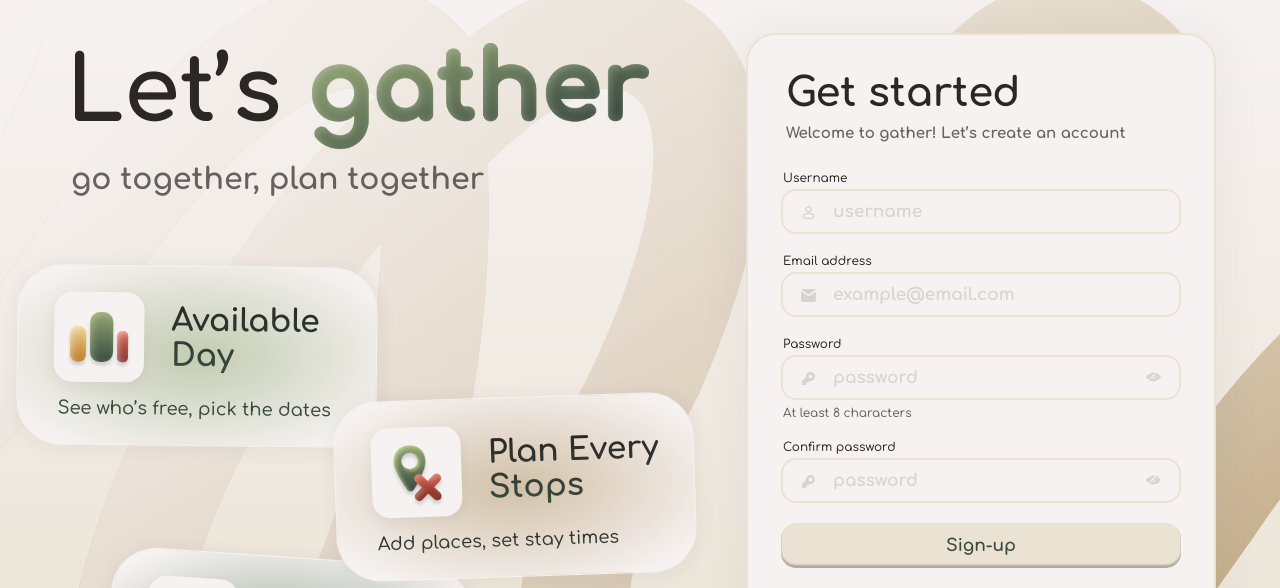
Test: Sign-up page › says the email exists when Supabase returns a user with no identities
Type "mild_01" into the field labelled "Username". click: (981, 211)
box: x1=781 y1=188 x2=1181 y2=234
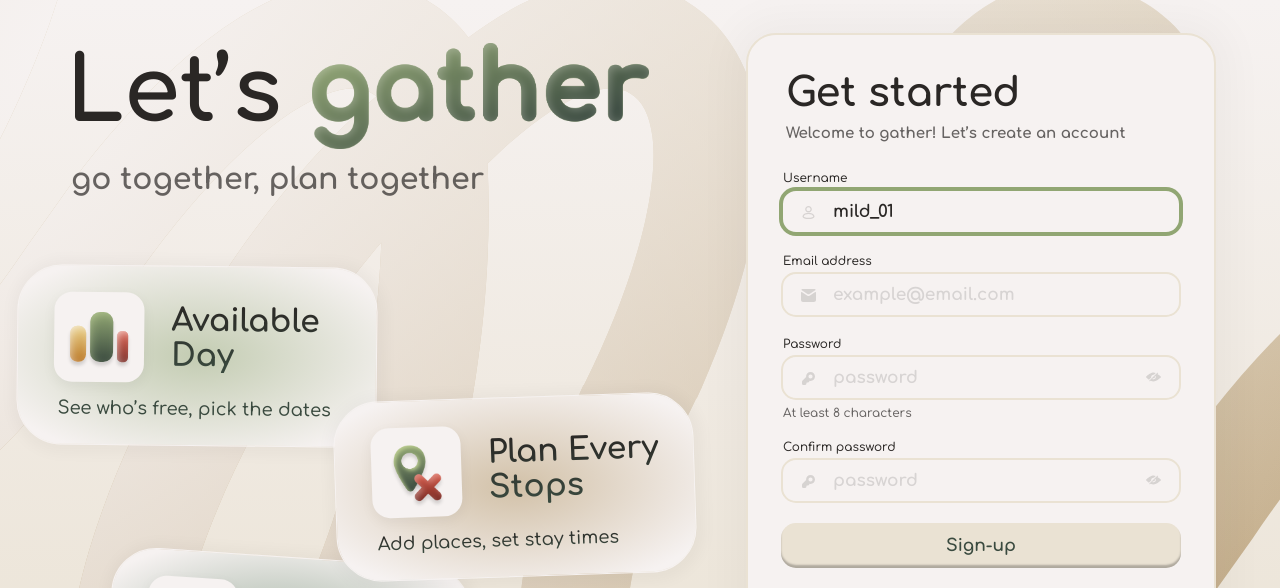
Type "mild@example.com" into the field labelled "Email address". click: (981, 294)
box: x1=781 y1=272 x2=1181 y2=316
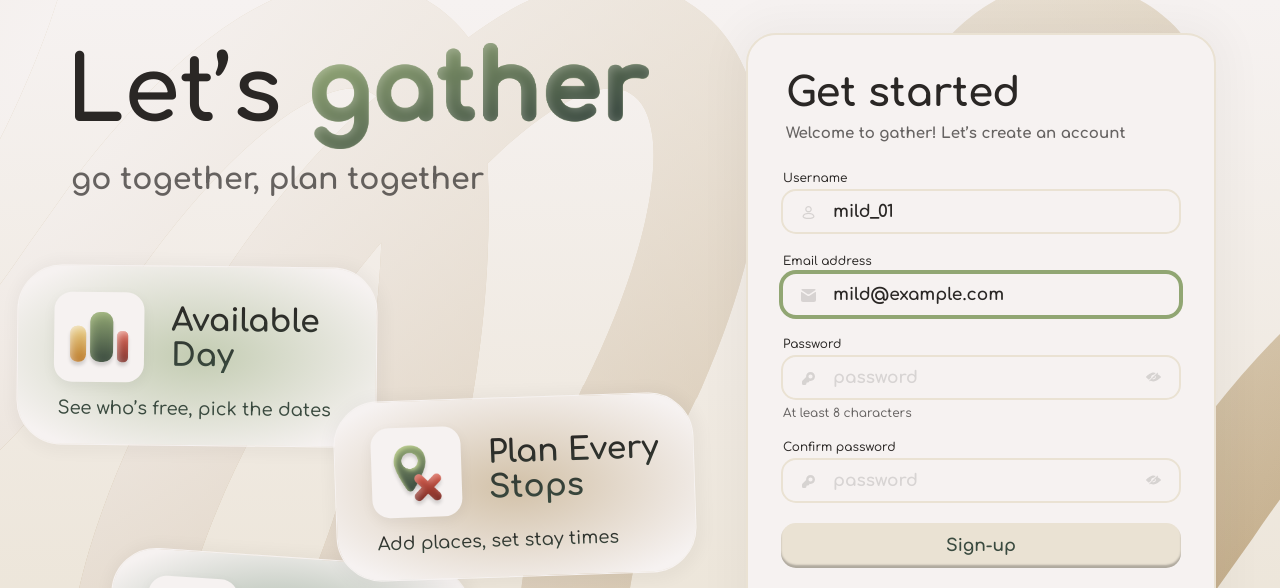
Type "password123" into the password field labelled "Password". click: (981, 377)
box: x1=781 y1=354 x2=1181 y2=400
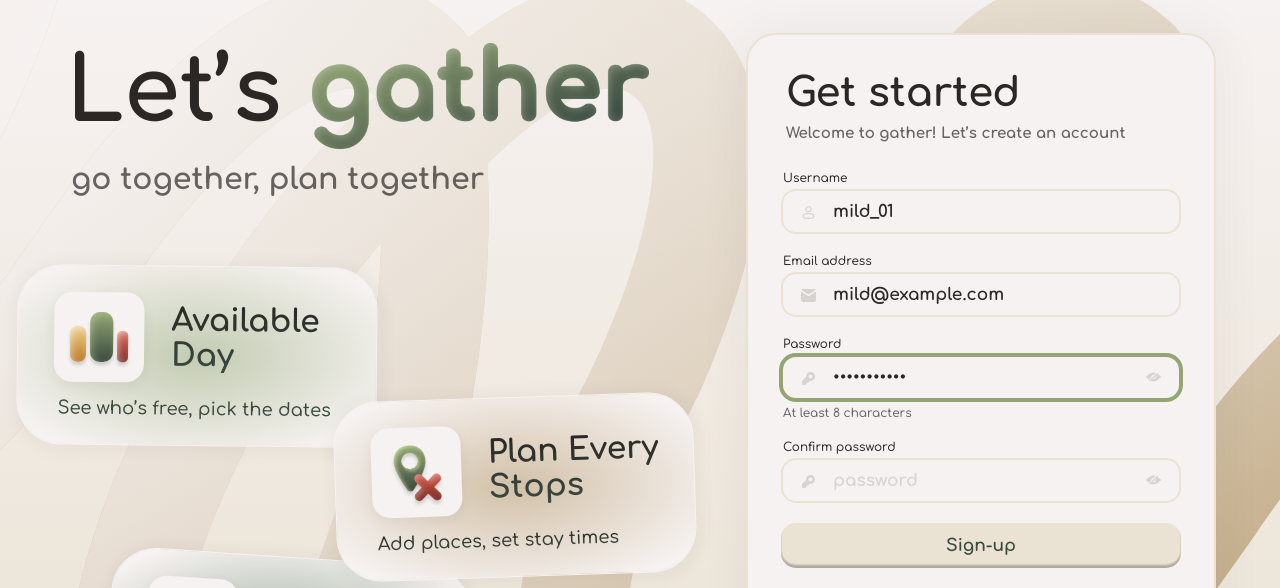
Type "password123" into the password field labelled "Confirm password". click: (981, 480)
box: x1=781 y1=458 x2=1181 y2=502
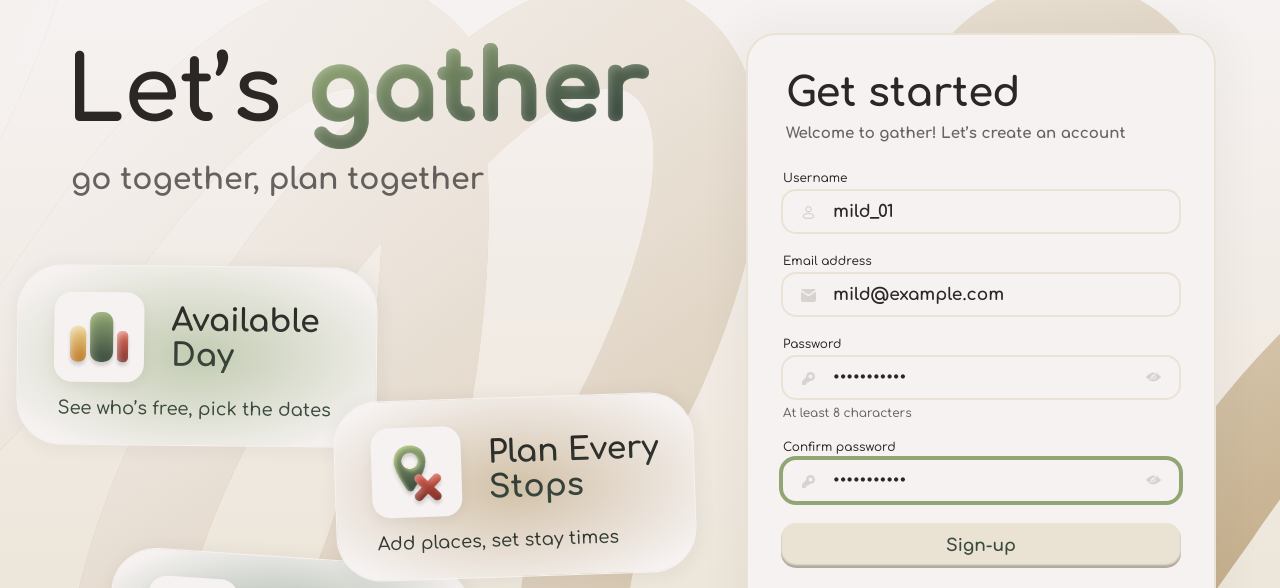
Click the button "Sign-up". click: click(981, 545)
box: x1=781 y1=522 x2=1181 y2=568
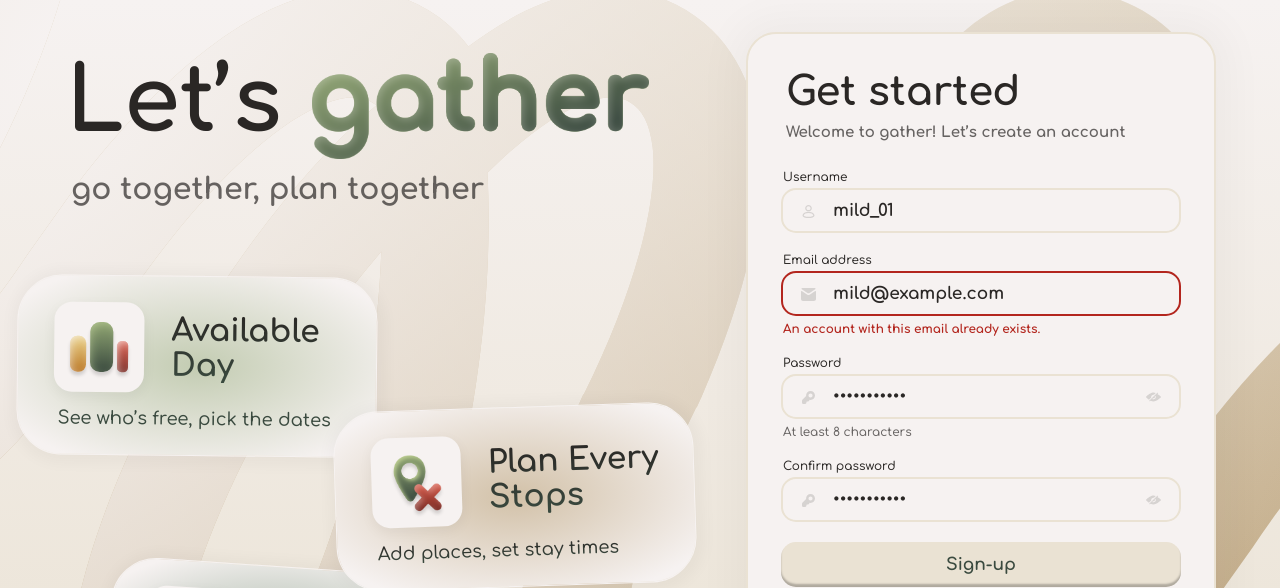
Result: the text "An account with this email already exists." is shown at x1=783 y1=322 x2=1040 y2=336
